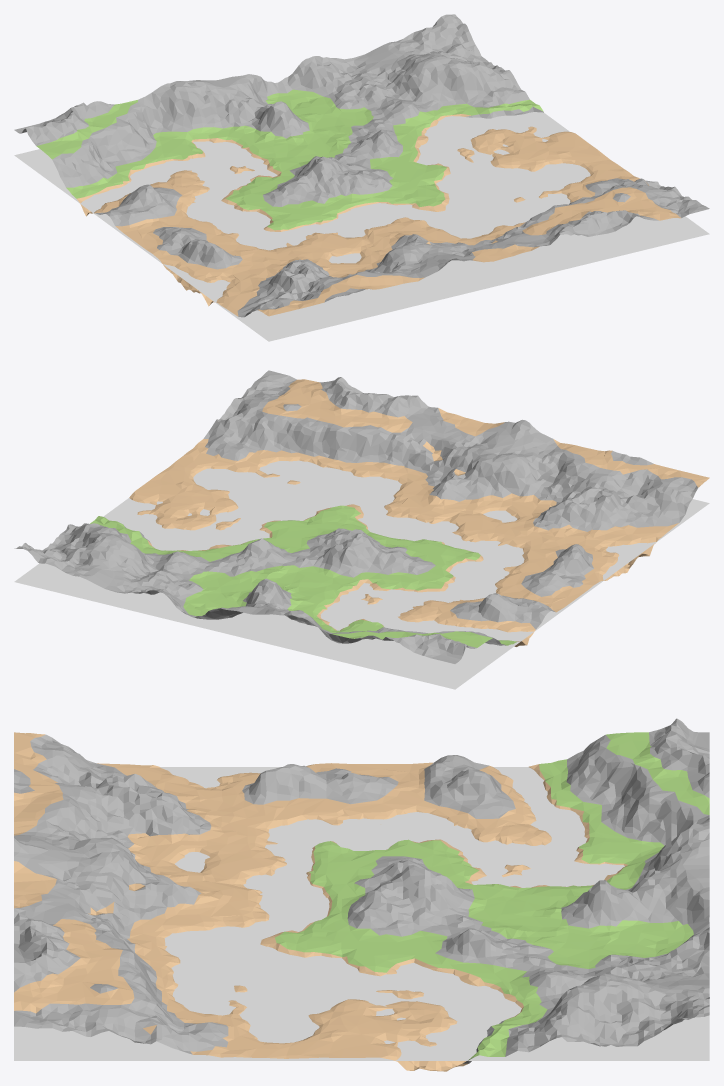
File: Map1_renew.fbx
3 views of the same model, one above another, from view 1: azimuth 30°, elevation 25°; view 2: azimuth 150°, elevation 25°; view 3: azimuth 270°, elevation 25° (orthographic). The views are drawn at different scales.
Visible parts, largest first — view 1: Land, Water; view 2: Land, Water; view 3: Land, Water.
Boxes of the visible parts, x1,y1,x2,y2 form: Land: [14, 14, 709, 317]; Water: [14, 112, 709, 341]; Land: [14, 370, 709, 663]; Water: [14, 460, 709, 689]; Land: [14, 718, 709, 1071]; Water: [14, 767, 709, 1060].
Bounding box in the file's own units: 20014 × 2067 × 20014.
